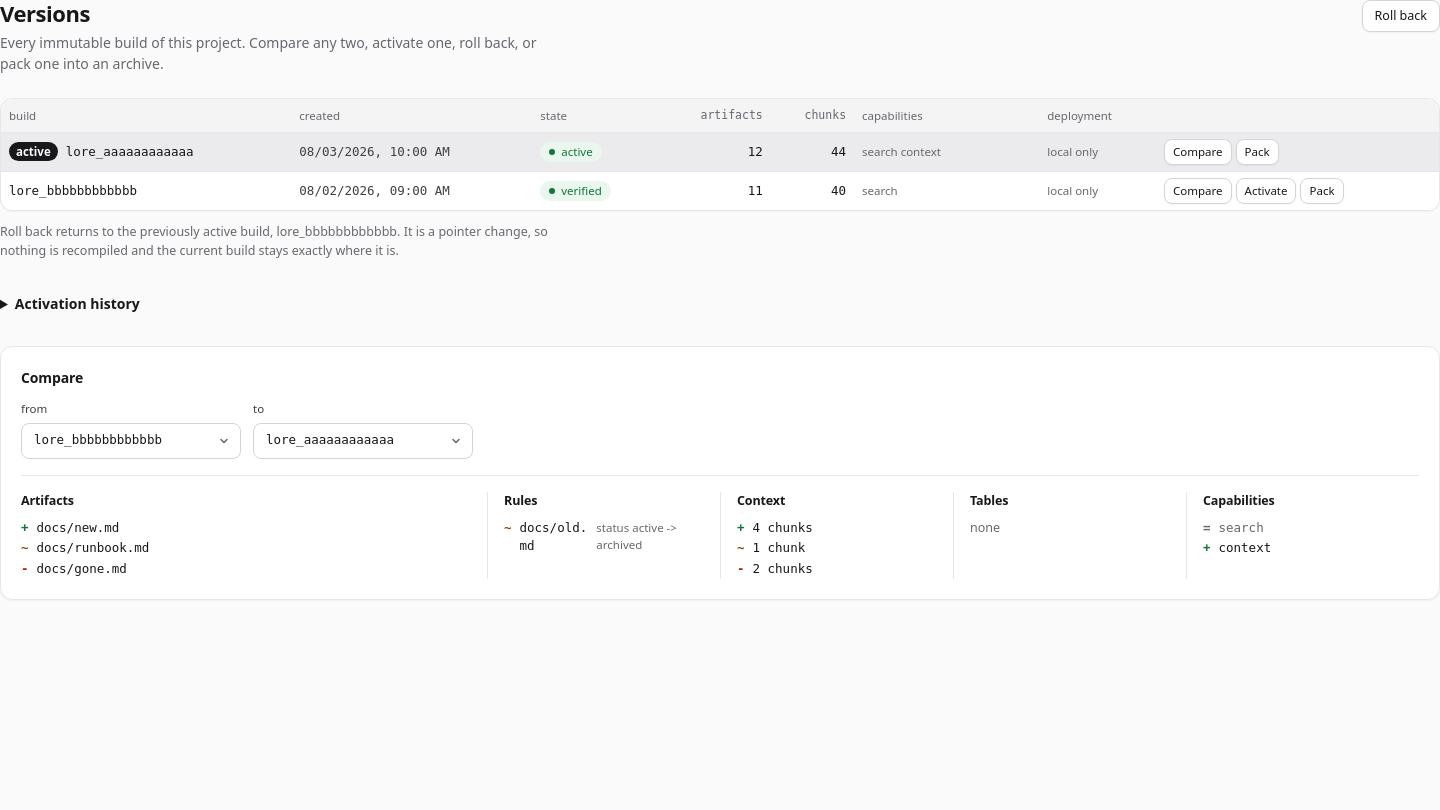
Test: a confirmation that went stale, #610 › re-plans from the build that is live now when the server refuses the activation
Click the button "Activate" at {"x": 1266, "y": 191}, box [1236,178,1296,204]
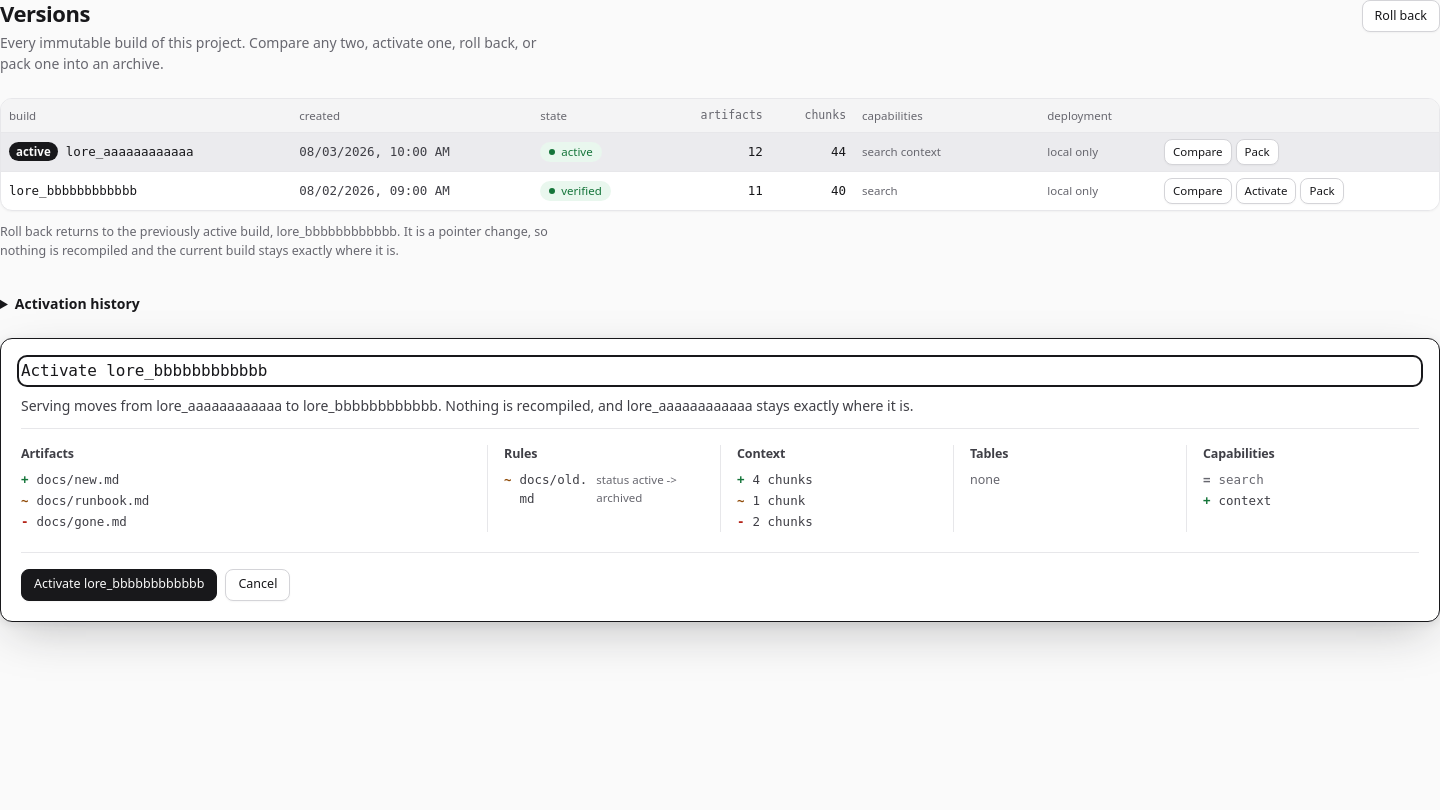
Click the button "Activate lore_bbbbbbbbbbbb" at {"x": 119, "y": 584}, box [21,568,218,600]
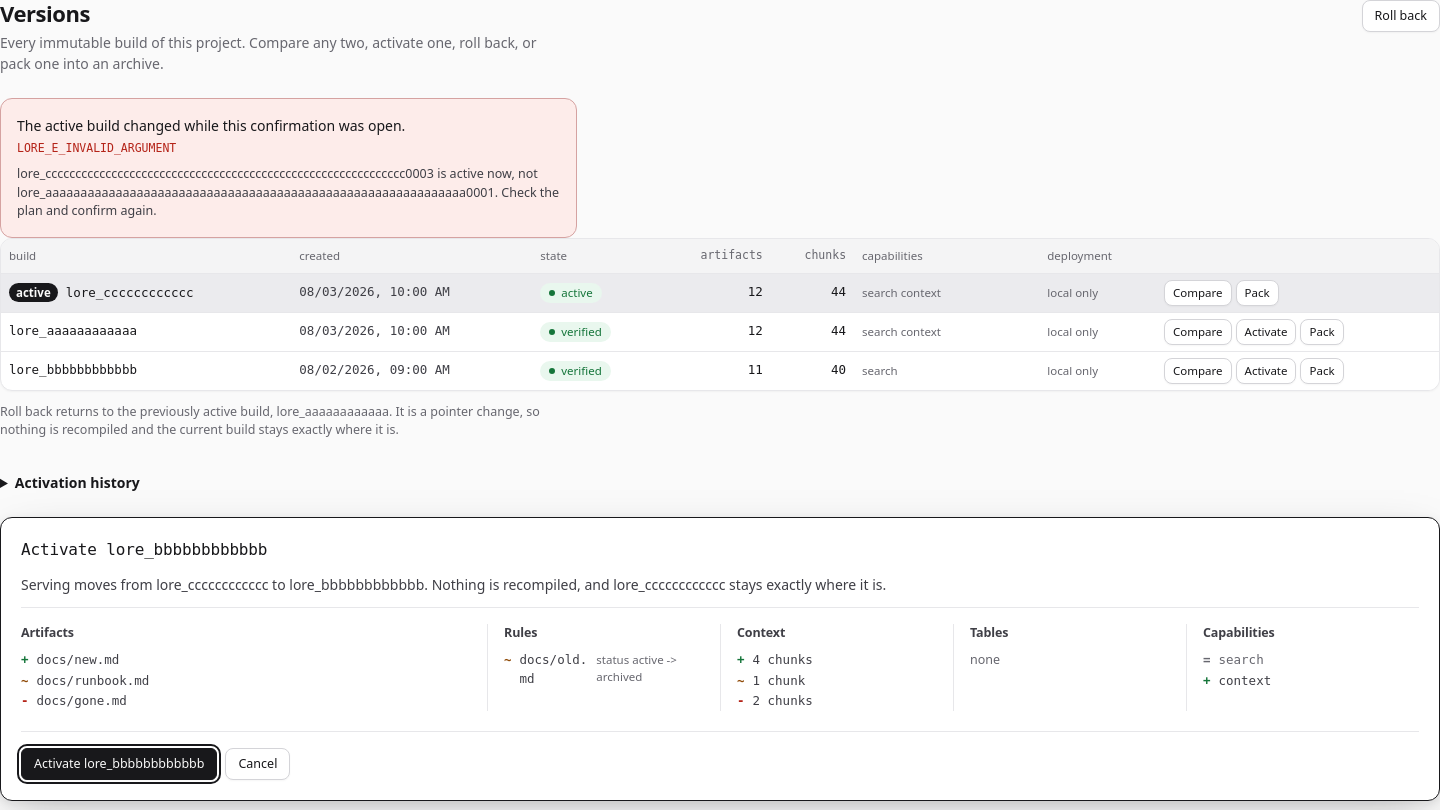
Now the text "The active build changed while this confirmation was open." is shown, box [17,116,405,134]
